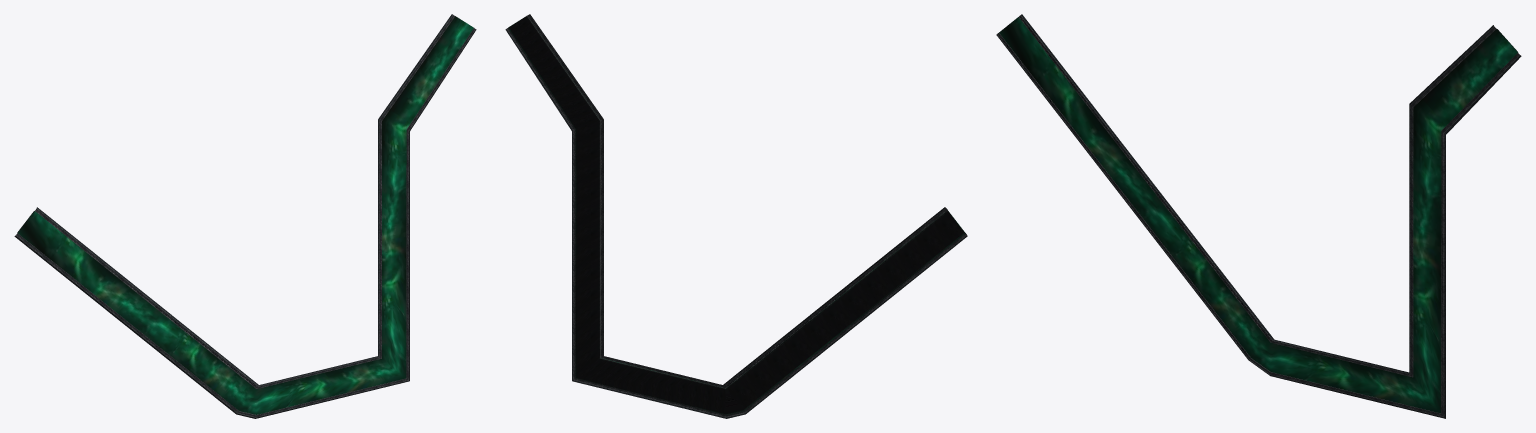
3 views of the same model, side by side, from view 1: azimuth 30°, elevation 25°; view 2: azimuth 150°, elevation 25°; view 3: azimuth 330°, elevation 25° (orthographic). The views are drawn at different scales.
Visible parts, largest first — view 1: model_Object16; view 2: model_Object16; view 3: model_Object16.
Part boxes in pixels (x1,y1,x2,y2): model_Object16: [14, 14, 476, 418]; model_Object16: [505, 14, 967, 418]; model_Object16: [996, 14, 1521, 418].
Size of the model in its own units: 6.48 by 4.78 by 0.0107.
Materials: 2 (2 with a texture image).
